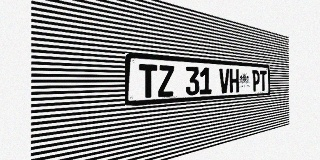1: (199, 67, 211, 95)
3: (186, 66, 199, 95)
H: (230, 69, 239, 93)
P: (252, 70, 260, 91)
T: (139, 64, 157, 98), (260, 70, 267, 91)
V: (219, 68, 229, 93)
Z: (158, 65, 174, 97)
